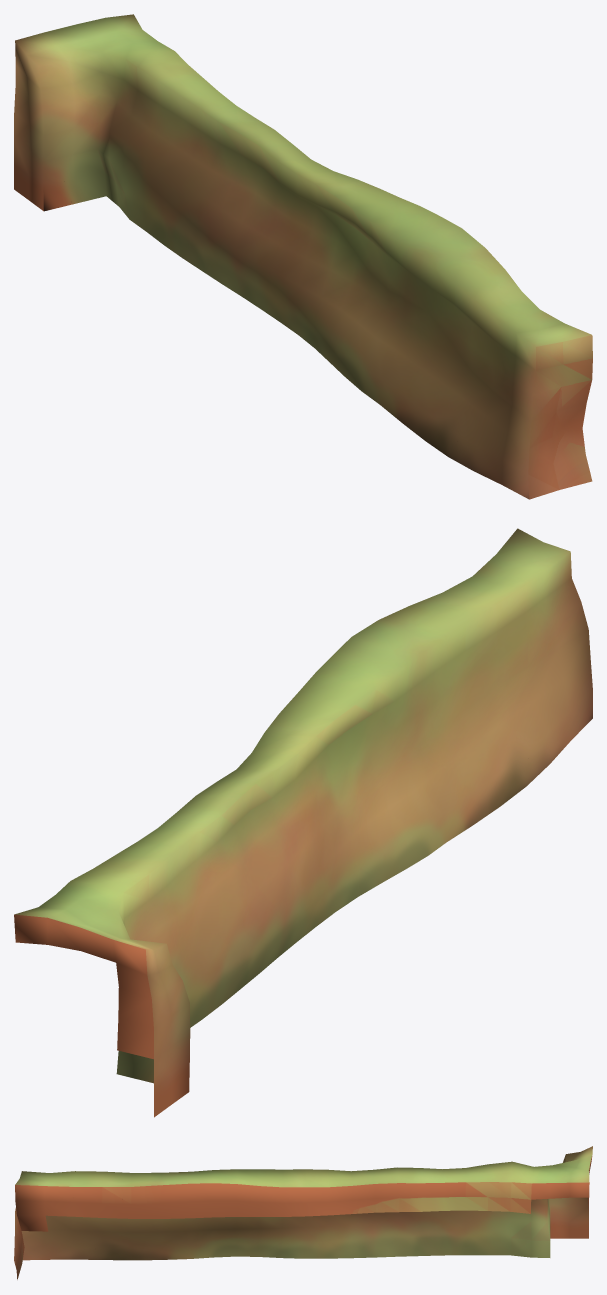
File: cliff.fbx
3 renders of one model, top to bottom at view 1: azimuth 30°, elevation 25°; view 2: azimuth 150°, elevation 25°; view 3: azimuth 270°, elevation 25°, orthographic. The views are drawn at different scales.
Parts seen in each view (by area): view 1: Cube.004; view 2: Cube.004; view 3: Cube.004.
Boxes of the visible parts, left/top/right/bottom form: Cube.004: left=14, top=14, right=592, bottom=499; Cube.004: left=14, top=528, right=592, bottom=1117; Cube.004: left=14, top=1146, right=592, bottom=1279.
Size of the model in its own units: 984 by 988 by 5053.
1 material, 1 textured.
